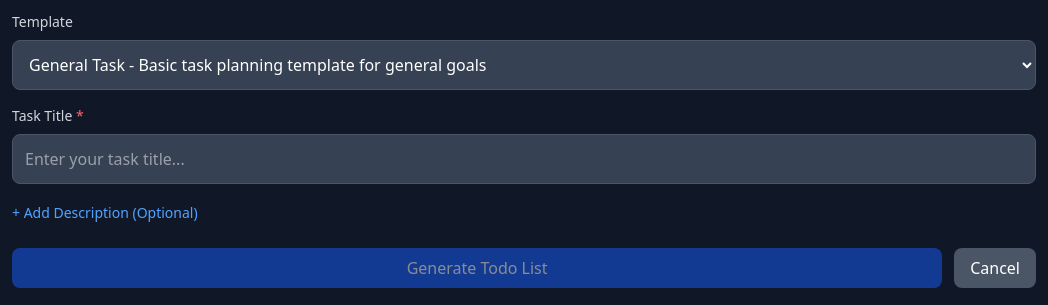
it: NewTodoInput Component › User Interactions › enables submit button when title is entered
In the field with placeholder "Enter your task title...": (524, 159) 12,134 -> 1036,184, type "Test task"
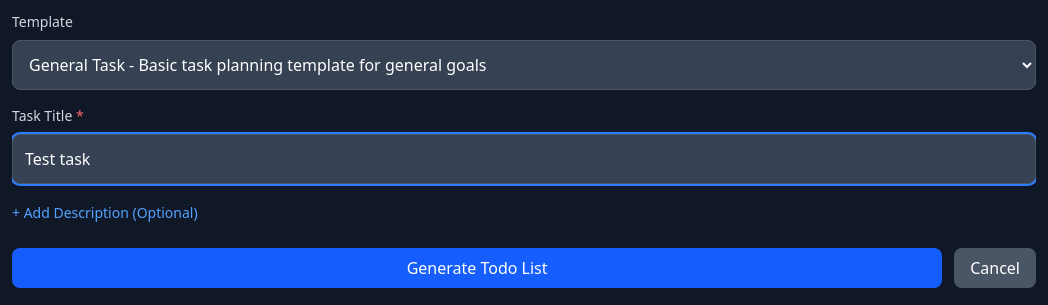
Expected: the button "Generate Todo List" is enabled, 12,248 -> 942,288
